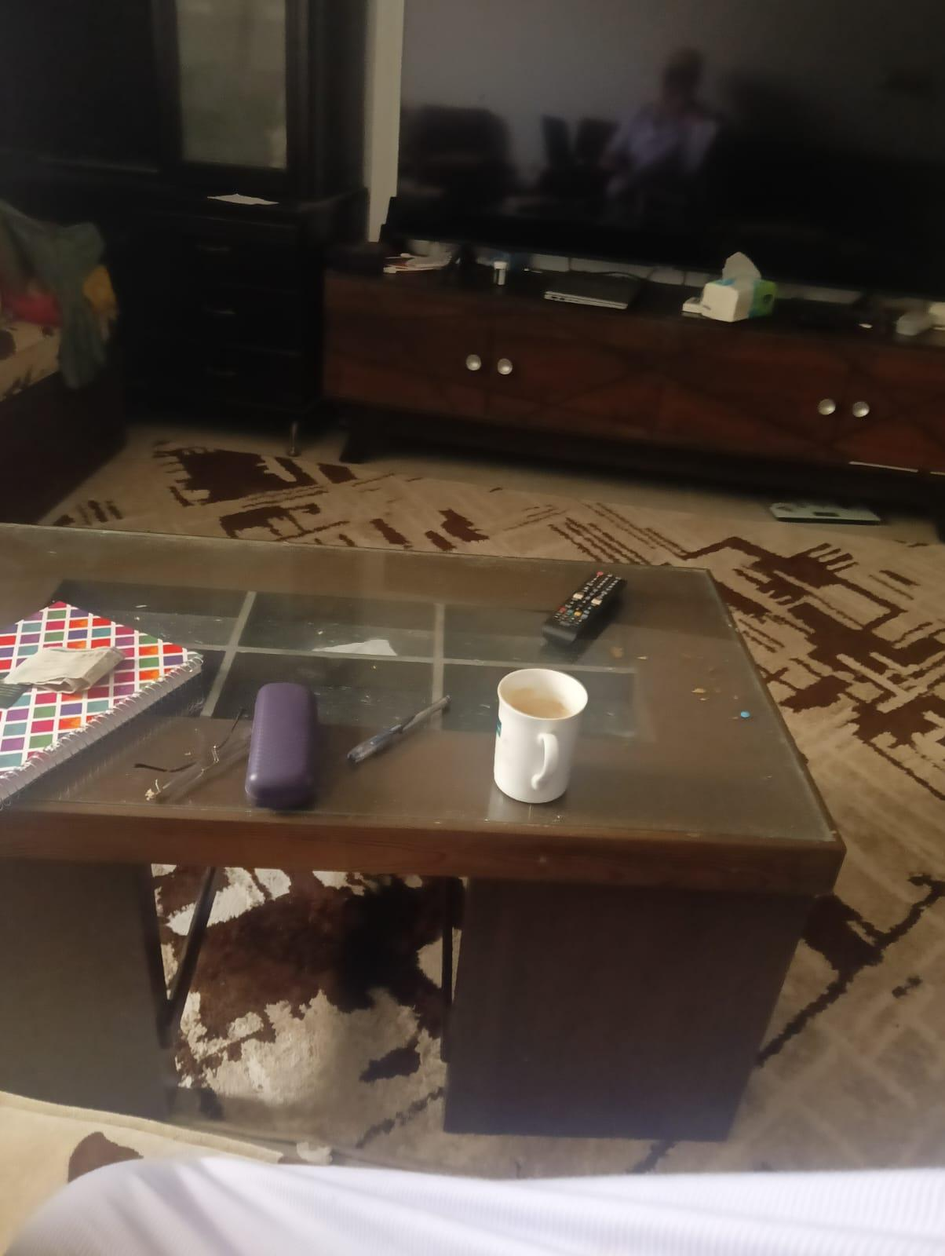cup: (494, 668, 587, 802)
